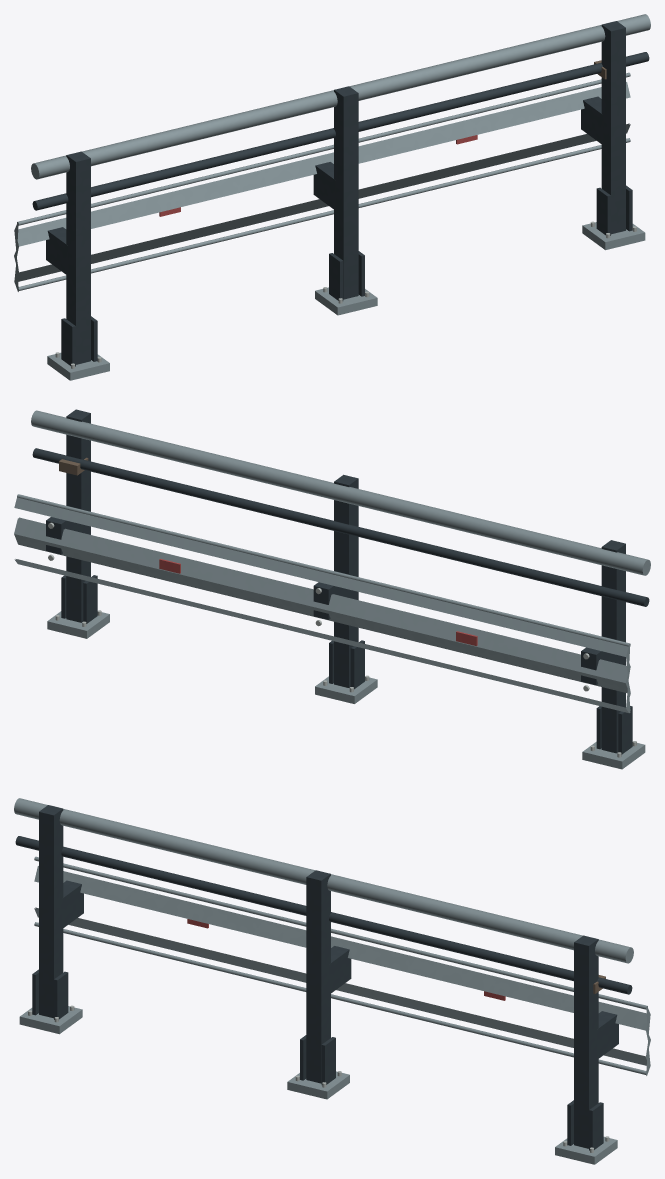
3 views of the same model, one above another, from view 1: azimuth 30°, elevation 25°; view 2: azimuth 150°, elevation 25°; view 3: azimuth 330°, elevation 25° (orthographic).
Parts seen in each view (by area): view 1: VIS_W_BEAM_CORRUGATED_STEEL, VIS_CONTINUOUS_TOP_HANDRAIL, VIS_INTERMEDIATE_TUBE, VIS_MAIN_POST_1, VIS_MAIN_POST_0, VIS_MAIN_POST_2, VIS_W_BEAM_FOLDED_ROLL_EDGE_0.445, VIS_W_BEAM_FOLDED_ROLL_EDGE_0.854, VIS_ANCHOR_BASE_PLATE_0, VIS_ANCHOR_BASE_PLATE_2, VIS_ANCHOR_BASE_PLATE_1, VIS_BEAM_MOUNT_SPACER_2 (+5 smaller); view 2: VIS_W_BEAM_CORRUGATED_STEEL, VIS_CONTINUOUS_TOP_HANDRAIL, VIS_INTERMEDIATE_TUBE, VIS_MAIN_POST_0, VIS_MAIN_POST_1, VIS_MAIN_POST_2, VIS_W_BEAM_FOLDED_ROLL_EDGE_0.854, VIS_ANCHOR_BASE_PLATE_2, VIS_ANCHOR_BASE_PLATE_0, VIS_ANCHOR_BASE_PLATE_1, VIS_BEAM_MOUNT_SPACER_1, VIS_BEAM_MOUNT_SPACER_0 (+4 smaller); view 3: VIS_W_BEAM_CORRUGATED_STEEL, VIS_CONTINUOUS_TOP_HANDRAIL, VIS_INTERMEDIATE_TUBE, VIS_MAIN_POST_1, VIS_MAIN_POST_0, VIS_MAIN_POST_2, VIS_W_BEAM_FOLDED_ROLL_EDGE_0.854, VIS_W_BEAM_FOLDED_ROLL_EDGE_0.445, VIS_ANCHOR_BASE_PLATE_2, VIS_ANCHOR_BASE_PLATE_0, VIS_ANCHOR_BASE_PLATE_1, VIS_BEAM_MOUNT_SPACER_0 (+5 smaller).
Part boxes in pixels (x1,y1,x2,y2): VIS_W_BEAM_CORRUGATED_STEEL: (14, 82, 630, 291); VIS_CONTINUOUS_TOP_HANDRAIL: (31, 14, 650, 179); VIS_INTERMEDIATE_TUBE: (32, 52, 649, 210); VIS_MAIN_POST_1: (334, 86, 358, 299); VIS_MAIN_POST_0: (66, 151, 90, 364); VIS_MAIN_POST_2: (601, 21, 625, 234); VIS_W_BEAM_FOLDED_ROLL_EDGE_0.445: (17, 138, 630, 291); VIS_W_BEAM_FOLDED_ROLL_EDGE_0.854: (17, 72, 630, 225); VIS_ANCHOR_BASE_PLATE_0: (47, 352, 109, 380); VIS_ANCHOR_BASE_PLATE_2: (582, 222, 645, 250); VIS_ANCHOR_BASE_PLATE_1: (315, 287, 377, 315); VIS_BEAM_MOUNT_SPACER_2: (581, 96, 603, 144); VIS_W_BEAM_CORRUGATED_STEEL: (14, 497, 630, 713); VIS_CONTINUOUS_TOP_HANDRAIL: (31, 410, 650, 575); VIS_INTERMEDIATE_TUBE: (32, 448, 649, 606); VIS_MAIN_POST_0: (601, 540, 625, 753); VIS_MAIN_POST_1: (334, 474, 358, 687); VIS_MAIN_POST_2: (66, 409, 90, 622); VIS_W_BEAM_FOLDED_ROLL_EDGE_0.854: (17, 494, 630, 646); VIS_ANCHOR_BASE_PLATE_2: (47, 611, 109, 638); VIS_ANCHOR_BASE_PLATE_0: (582, 741, 645, 769); VIS_ANCHOR_BASE_PLATE_1: (315, 676, 377, 703); VIS_BEAM_MOUNT_SPACER_1: (313, 571, 350, 619); VIS_BEAM_MOUNT_SPACER_0: (581, 636, 618, 685); VIS_W_BEAM_CORRUGATED_STEEL: (34, 866, 650, 1075); VIS_CONTINUOUS_TOP_HANDRAIL: (14, 798, 633, 963); VIS_INTERMEDIATE_TUBE: (15, 836, 632, 994); VIS_MAIN_POST_1: (306, 870, 330, 1083); VIS_MAIN_POST_0: (39, 805, 63, 1018); VIS_MAIN_POST_2: (574, 935, 598, 1148); VIS_W_BEAM_FOLDED_ROLL_EDGE_0.854: (34, 856, 647, 1009); VIS_W_BEAM_FOLDED_ROLL_EDGE_0.445: (34, 922, 646, 1075); VIS_ANCHOR_BASE_PLATE_2: (555, 1136, 617, 1164); VIS_ANCHOR_BASE_PLATE_0: (19, 1006, 82, 1034); VIS_ANCHOR_BASE_PLATE_1: (287, 1071, 349, 1099); VIS_BEAM_MOUNT_SPACER_0: (61, 880, 83, 928).
Size of the model in its own units: 4 by 1.32 by 0.45.
5 materials, 5 textured.
